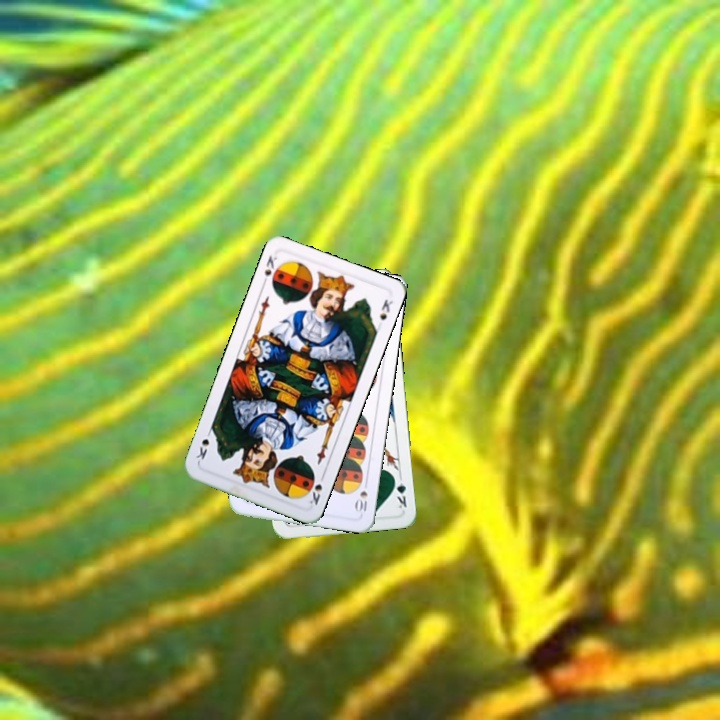GK: (390, 472, 409, 511)
S10: (351, 476, 370, 517)
SK: (258, 251, 283, 289), (305, 469, 327, 508)
